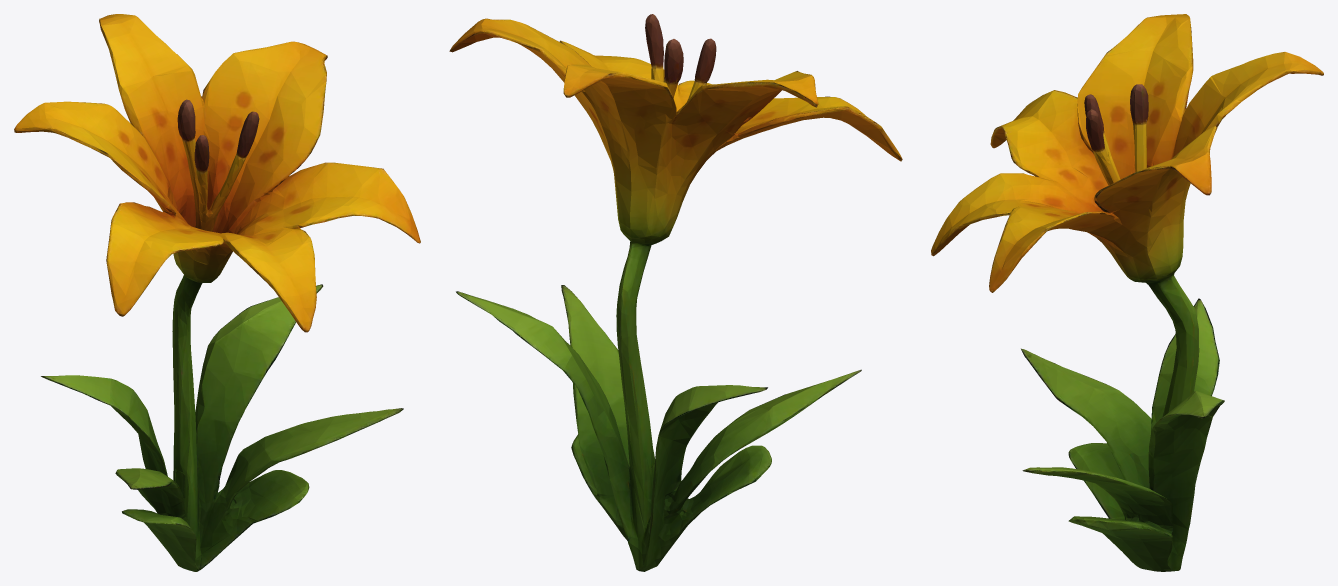
Rendered from savanna_lily.glb.
The picture shows the model from 3 angles, left to right: view 1: azimuth 30°, elevation 25°; view 2: azimuth 150°, elevation 25°; view 3: azimuth 270°, elevation 25°; orthographic projection. The views are drawn at different scales.
Parts seen in each view (by area): view 1: world; view 2: world; view 3: world.
Part boxes in pixels (x1,y1,x2,y2): world: (14, 14, 420, 571); world: (449, 14, 902, 571); world: (931, 14, 1323, 571).
Size of the model in its own units: 0.6743 by 0.9999 by 0.7036.
Materials: 1 (1 with a texture image).
